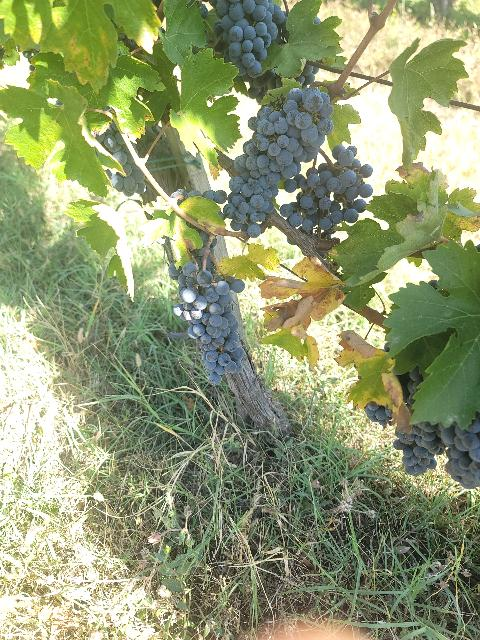grapes: (221, 86, 334, 238), (169, 261, 245, 385), (280, 145, 372, 239), (210, 0, 286, 79)
